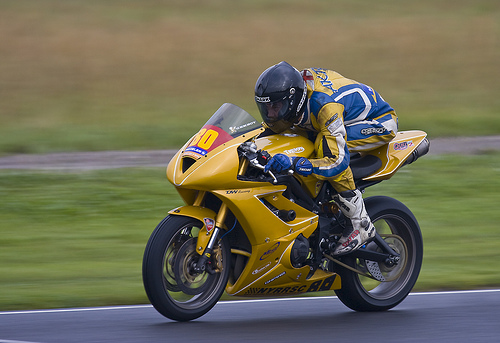helmet: (247, 65, 311, 121)
